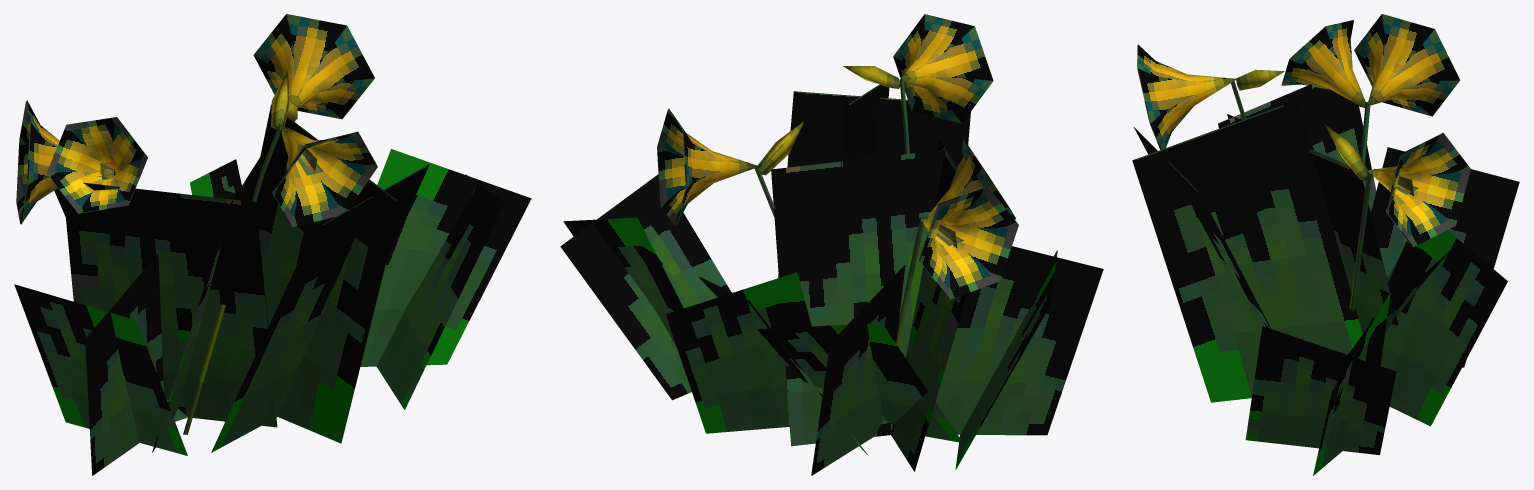
The model's file is plants_gardenflower01.gltf.
3 views of the same model, side by side, from view 1: azimuth 30°, elevation 25°; view 2: azimuth 150°, elevation 25°; view 3: azimuth 270°, elevation 25° (orthographic). The views are drawn at different scales.
Parts seen in each view (by area): view 1: plants_gardenflower01; view 2: plants_gardenflower01; view 3: plants_gardenflower01.
Part boxes in pixels (left/top/right/bottom): plants_gardenflower01: left=14, top=14, right=531, bottom=475; plants_gardenflower01: left=560, top=14, right=1103, bottom=475; plants_gardenflower01: left=1132, top=14, right=1519, bottom=475.
Bounding box in the file's own units: 1.4 × 0.9014 × 0.9741.
Materials: 1 (1 with a texture image).
